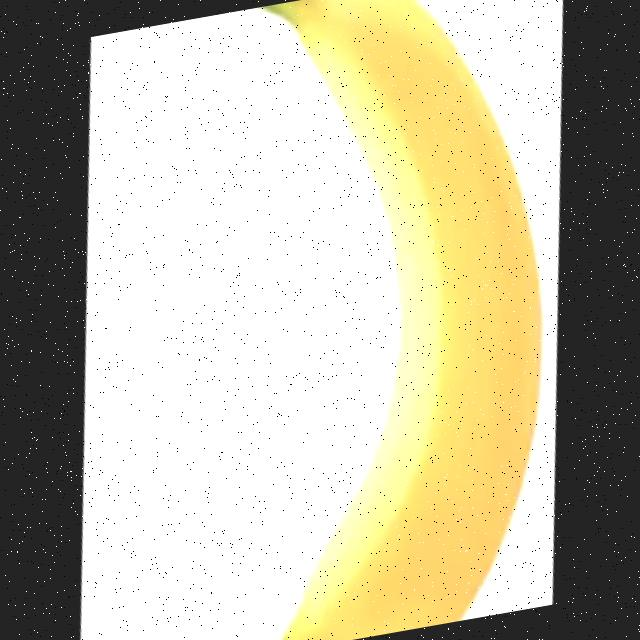banana: (161, 0, 597, 640)
